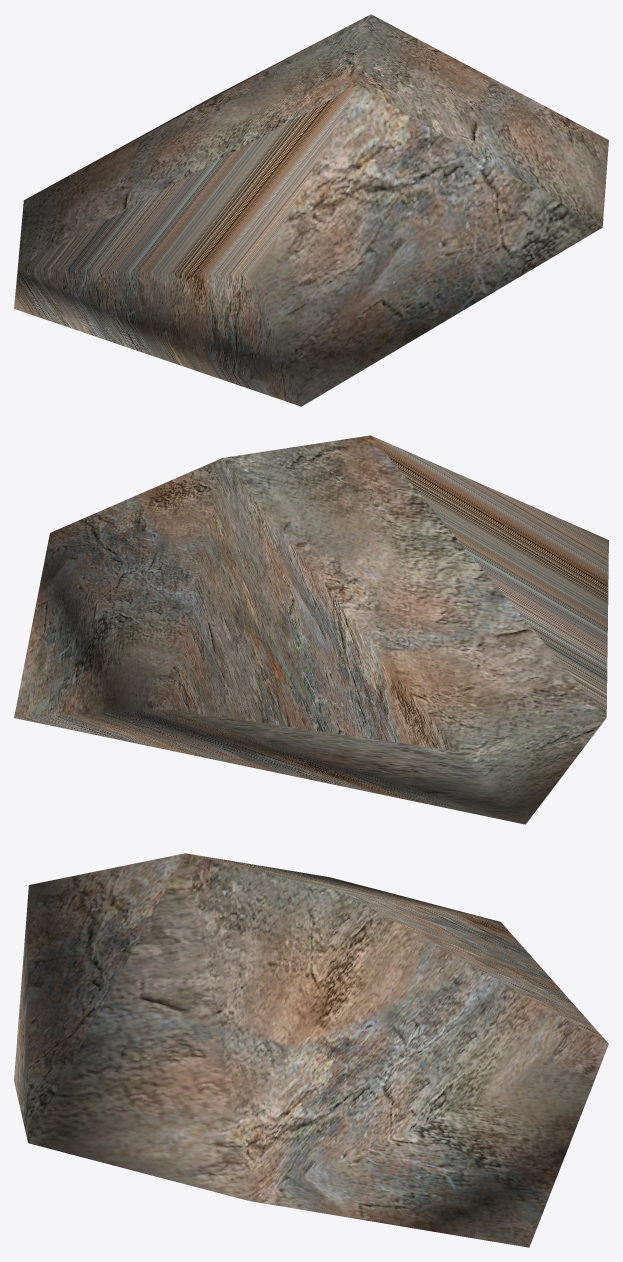
File: rock_forestrock_sm_l2.fbx
3 views of the same model, one above another, from view 1: azimuth 30°, elevation 25°; view 2: azimuth 150°, elevation 25°; view 3: azimuth 270°, elevation 25° (orthographic). The views are drawn at different scales.
Parts seen in each view (by area): view 1: mesh_node; view 2: mesh_node; view 3: mesh_node.
Part boxes in pixels (x1,y1,x2,y2): mesh_node: [14, 14, 608, 406]; mesh_node: [14, 435, 608, 824]; mesh_node: [14, 853, 608, 1247].
Size of the model in its own units: 0.6103 by 0.2586 by 0.448.
